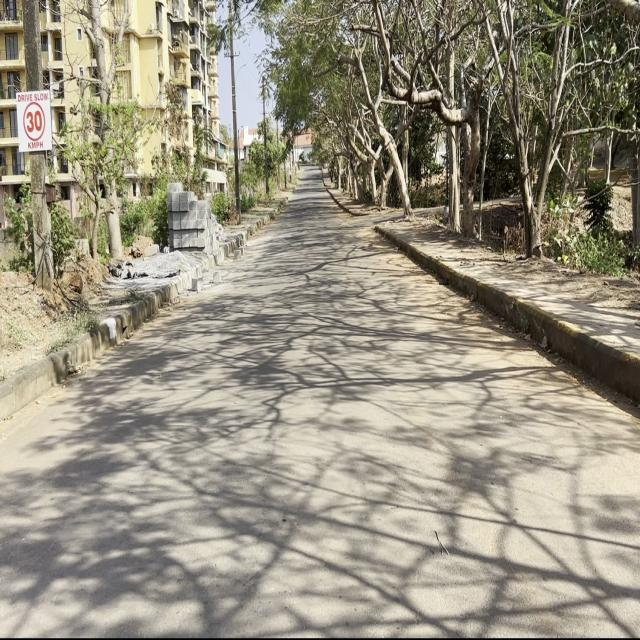Road: (0, 167, 640, 638)
